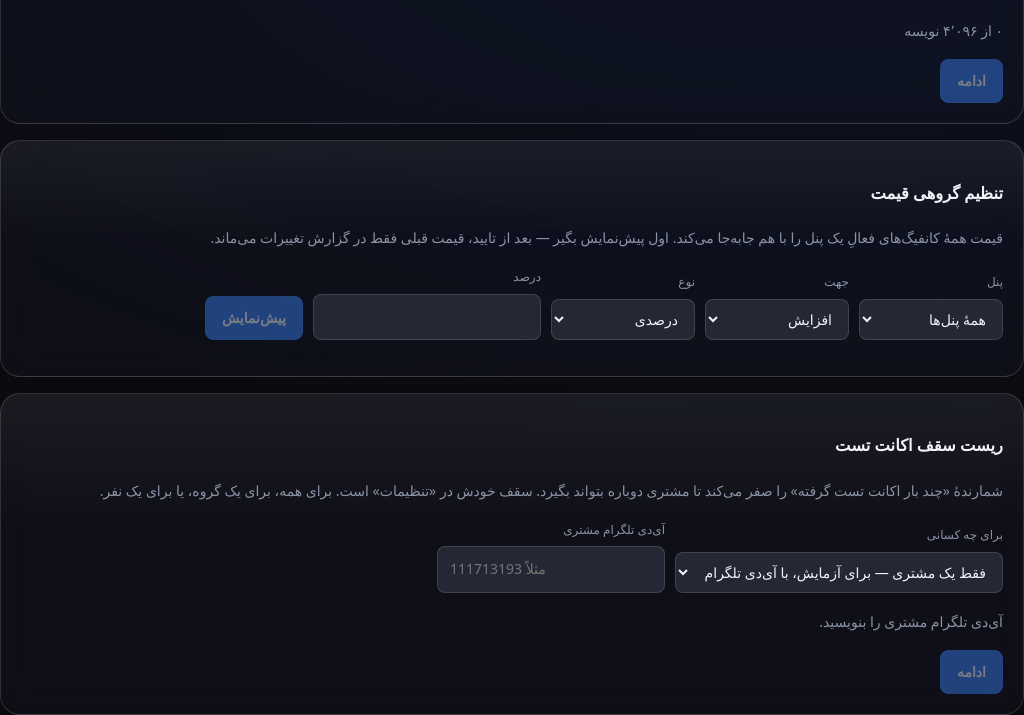
it: resetting the trial quota › shows how many in the audience have used a trial, and resets exactly that audience
(page scrolled)
Expected: the heading "ریست سقف اکانت تست" is shown, [835,434,1003,456]
Select "همهٔ مشتری‌های فعال" in the dropdown labelled "برای چه کسانی". click: point(839, 572)
box: [675,552,1003,593]
(page scrolled)
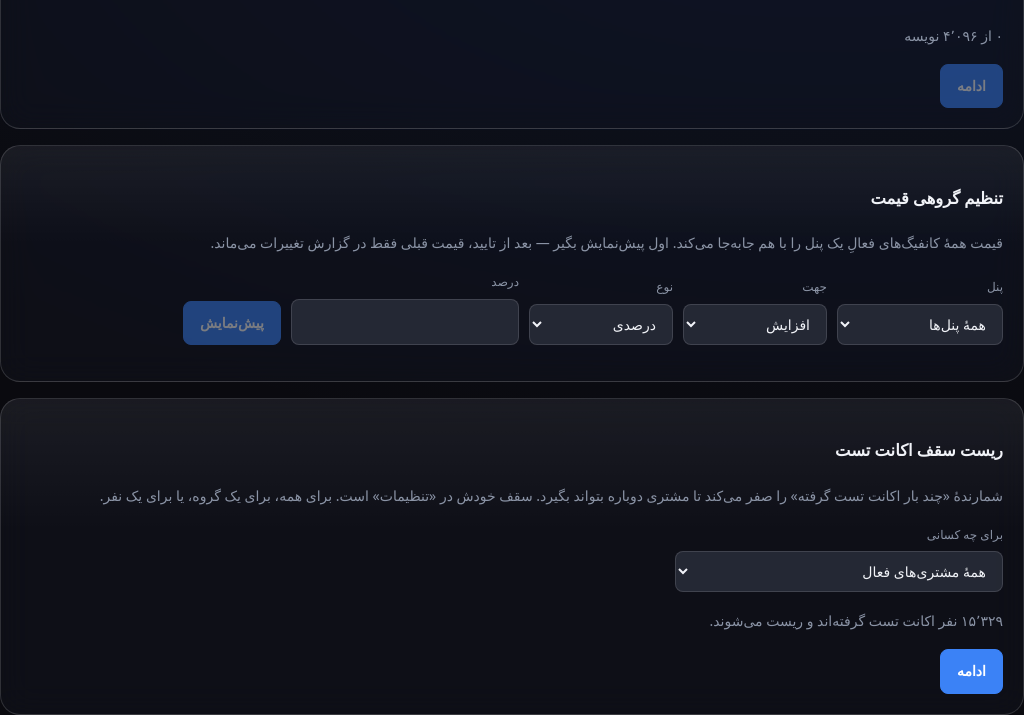
Result: the text "۱۵٬۳۲۹ نفر اکانت تست گرفته‌اند و ریست می‌شوند." is shown at [709,611,1003,630]
Click the button "ادامه" below "ریست سقف اکانت تست". click: point(972, 671)
box: [940,649,1003,694]
(page scrolled)
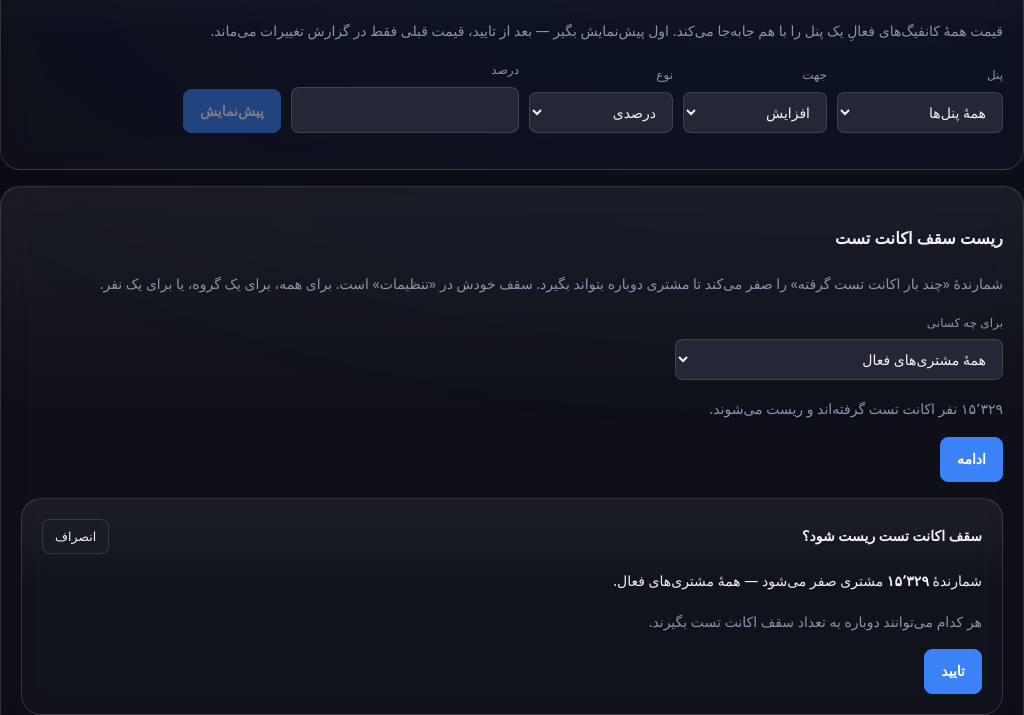
Click the button "تایید". click: point(953, 672)
box: [924,650,982,694]
(page scrolled)
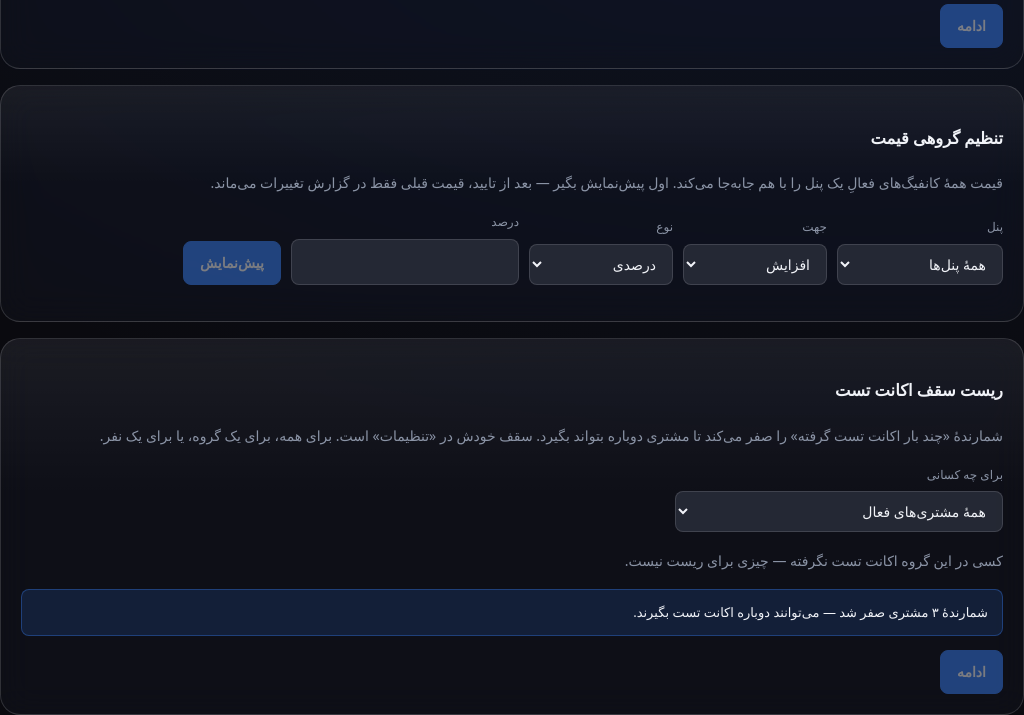
Result: the text "شمارندهٔ ۳ مشتری صفر شد — می‌توانند دوباره اکانت تست بگیرند." is shown at [21,589,1003,636]
